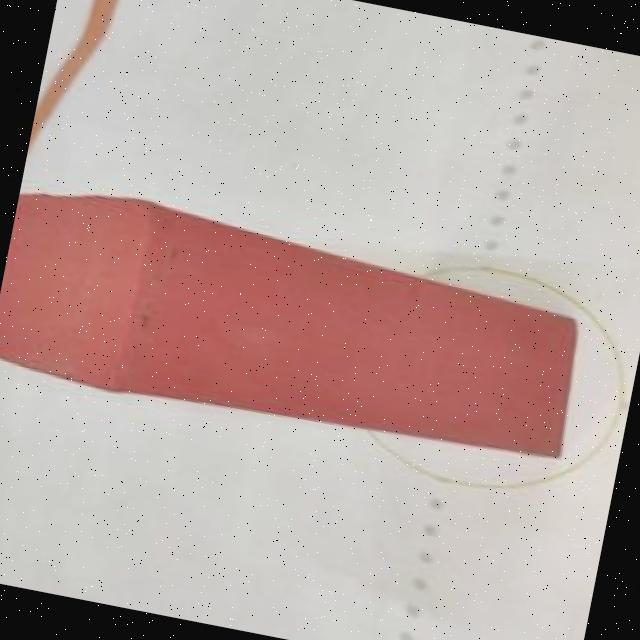redbox: (0, 174, 593, 481)
